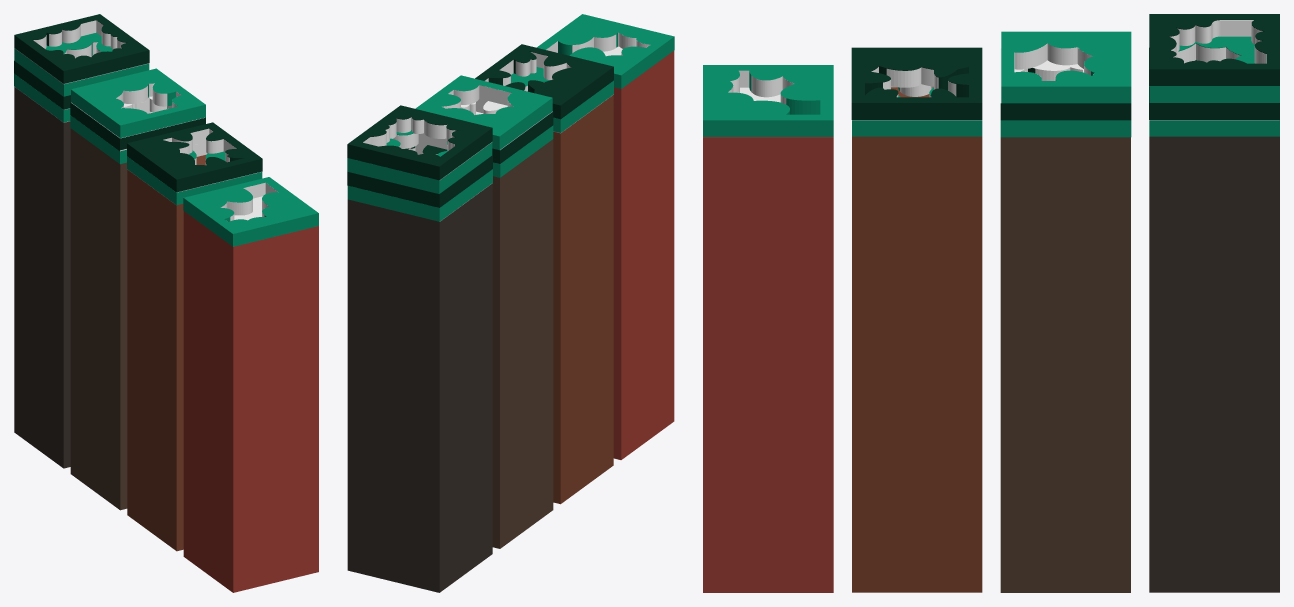
The model's file is 3D Modelle Biodiversität Teil I-1 Wald_Boden-D7.glb.
The picture shows the model from 3 angles, left to right: view 1: azimuth 30°, elevation 25°; view 2: azimuth 150°, elevation 25°; view 3: azimuth 270°, elevation 25°; orthographic projection. The views are drawn at different scales.
Parts seen in each view (by area): view 1: color_row_1, color_row_4, color_row_3, color_row_2, base_row_4, base_row_3, base_row_2, base_row_1; view 2: color_row_4, color_row_3, color_row_2, color_row_1, base_row_4, base_row_3, base_row_2, base_row_1; view 3: color_row_4, color_row_3, color_row_2, color_row_1, base_row_4, base_row_3, base_row_2, base_row_1.
Part boxes in pixels (x1,y1,x2,y2): color_row_1: (183, 177, 318, 592); color_row_4: (14, 14, 149, 468); color_row_3: (70, 68, 205, 510); color_row_2: (127, 122, 262, 551); base_row_4: (15, 20, 149, 122); base_row_3: (71, 83, 204, 151); base_row_2: (127, 128, 261, 202); base_row_1: (221, 182, 278, 220); color_row_4: (347, 105, 492, 592); color_row_3: (415, 75, 553, 548); color_row_2: (475, 44, 613, 504); color_row_1: (537, 14, 674, 459); base_row_4: (363, 117, 492, 221); base_row_3: (442, 85, 552, 149); base_row_2: (485, 52, 613, 133); base_row_1: (546, 33, 650, 56); color_row_4: (1149, 14, 1279, 592); color_row_3: (1000, 31, 1131, 592); color_row_2: (851, 47, 982, 592); color_row_1: (703, 65, 833, 592); base_row_4: (1149, 20, 1279, 120); base_row_3: (1000, 43, 1093, 102); base_row_2: (852, 67, 981, 120); base_row_1: (728, 70, 794, 104).
Size of the model in its own units: 0.1407 by 0.622 by 0.6205.
